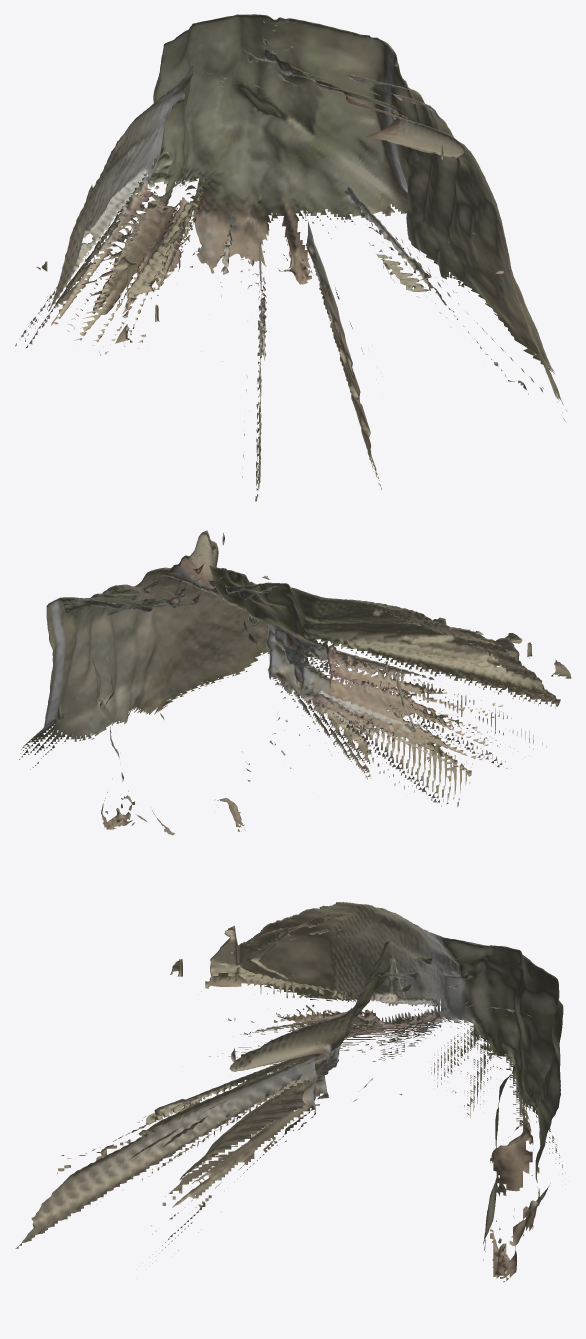
The model's file is world_collider.glb.
The picture shows the model from 3 angles, top to bottom: view 1: azimuth 30°, elevation 25°; view 2: azimuth 150°, elevation 25°; view 3: azimuth 270°, elevation 25°; orthographic projection. The views are drawn at different scales.
Parts seen in each view (by area): view 1: world; view 2: world; view 3: world.
Boxes of the visible parts, x1=… form: world: x1=15, y1=14, x2=566, y2=501; world: x1=19, y1=530, x2=571, y2=835; world: x1=15, y1=902, x2=565, y2=1282.
Bounding box in the file's own units: 16.28 × 10.75 × 16.48.
